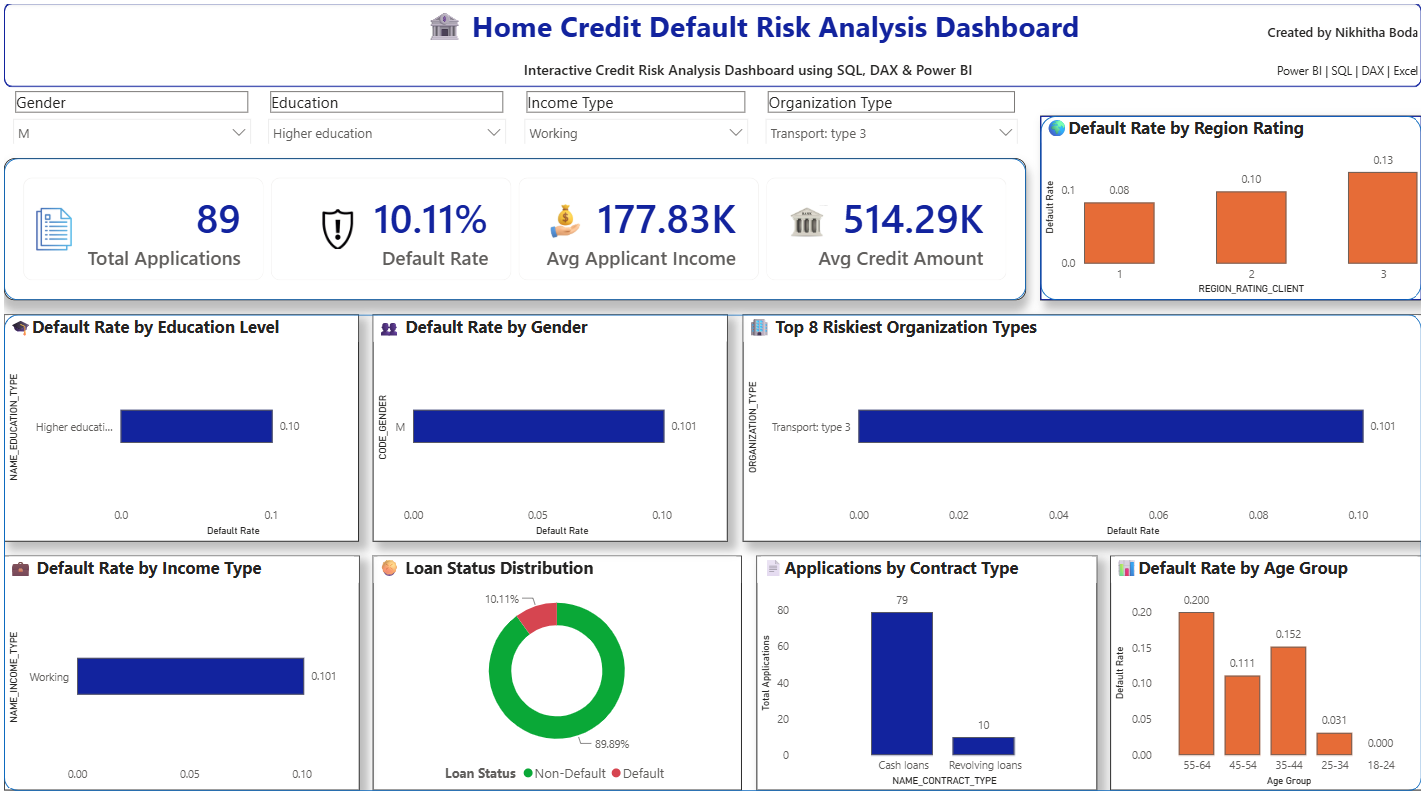

This screenshot's page, from the dashboard's own definition file:
{"tool":"powerbi","page":{"name":"Page 1","canvas":[1600,900],"ordinal":0},"visuals":[{"type":"cardVisual","fields":{"Data":["home_credit_project application_train.Total Applications","home_credit_project application_train.Default Rate","home_credit_project application_train.Avg Applicant Income","home_credit_project application_train.Avg Credit Amount"]},"box":[0,176,1152,160],"z":0},{"type":"textbox","box":[0,0,1600,96],"z":1000},{"type":"slicer","fields":{"Values":["home_credit_project application_train.CODE_GENDER"]},"box":[0,96,288,64],"z":2000},{"type":"slicer","fields":{"Values":["home_credit_project application_train.NAME_INCOME_TYPE"]},"box":[576,96,272,64],"z":3000},{"type":"slicer","fields":{"Values":["home_credit_project application_train.NAME_EDUCATION_TYPE"]},"box":[288,96,288,64],"z":4000},{"type":"slicer","fields":{"Values":["home_credit_project application_train.ORGANIZATION_TYPE"]},"box":[848,96,304,64],"z":5000},{"type":"clusteredBarChart","title":"🎓Default Rate by Education Level","fields":{"Category":["home_credit_project application_train.NAME_EDUCATION_TYPE"],"Y":["home_credit_project application_train.Default Rate"]},"box":[0,352,400,256],"z":6000},{"type":"clusteredBarChart","title":"🏢 Top 8 Riskiest Organization Types","fields":{"Y":["home_credit_project application_train.Default Rate"],"Category":["home_credit_project application_train.ORGANIZATION_TYPE"]},"box":[832,352,768,256],"z":7000},{"type":"donutChart","title":"🥧 Loan Status Distribution","fields":{"Y":["home_credit_project application_train.Total Applications"],"Category":["home_credit_project application_train.Loan Status"]},"box":[415.8,623.6,415.8,266],"z":8000},{"type":"clusteredBarChart","title":"👥 Default Rate by Gender","fields":{"Category":["home_credit_project application_train.CODE_GENDER"],"Y":["home_credit_project application_train.Default Rate"]},"box":[416,352,400,256],"z":9000},{"type":"clusteredBarChart","title":"💼 Default Rate by Income Type","fields":{"Category":["home_credit_project application_train.NAME_INCOME_TYPE"],"Y":["home_credit_project application_train.Default Rate"]},"box":[0,623.6,400.5,266],"z":10000},{"type":"clusteredColumnChart","title":"📄Applications by Contract Type","fields":{"Category":["home_credit_project application_train.NAME_CONTRACT_TYPE"],"Y":["home_credit_project application_train.Total Applications"]},"box":[848.3,623.6,383.7,266],"z":11000},{"type":"clusteredColumnChart","title":"📊Default Rate by Age Group","fields":{"Category":["home_credit_project application_train.Age Group"],"Y":["home_credit_project application_train.Default Rate"]},"box":[1247.3,623.6,353.1,266],"z":12000},{"type":"clusteredColumnChart","title":"🌍Default Rate by Region Rating","fields":{"Category":["home_credit_project application_train.REGION_RATING_CLIENT"],"Y":["home_credit_project application_train.Default Rate"]},"box":[1167.8,128.4,432.6,207.9],"z":13000},{"type":"shape","box":[0,176,1152,160],"z":14000},{"type":"image","box":[32,224,48,64],"z":15000},{"type":"image","box":[352,224,48,64],"z":16000},{"type":"image","box":[608,224,48,48],"z":17000},{"type":"image","box":[880,224,48,48],"z":18000},{"type":"shape","box":[0,0,1598.9,96.3],"z":19000},{"type":"shape","box":[0,2,1599,94],"z":20000},{"type":"shape","box":[1167.8,128.4,431,207.9],"z":21000},{"type":"shape","box":[1167.8,128.4,431,207.9],"z":22000},{"type":"shape","box":[0,351.6,1598.9,538],"z":23000},{"type":"shape","box":[1167.8,128.4,431,207.9],"z":24000}]}

Visuals, with their boxes in screenshot pixels (x1, y1, x2, y2), scaled from the page's 1600x900 canvas onto the 1425x795 screenshot:
cardVisual - home_credit_project application_train.Total Applications x home_credit_project application_train.Default Rate: {"x1": 0, "y1": 155, "x2": 1026, "y2": 297}
textbox: {"x1": 0, "y1": 0, "x2": 1424, "y2": 85}
slicer - home_credit_project application_train.CODE_GENDER: {"x1": 0, "y1": 85, "x2": 256, "y2": 141}
slicer - home_credit_project application_train.NAME_INCOME_TYPE: {"x1": 513, "y1": 85, "x2": 755, "y2": 141}
slicer - home_credit_project application_train.NAME_EDUCATION_TYPE: {"x1": 256, "y1": 85, "x2": 513, "y2": 141}
slicer - home_credit_project application_train.ORGANIZATION_TYPE: {"x1": 755, "y1": 85, "x2": 1026, "y2": 141}
"🎓Default Rate by Education Level" clusteredBarChart: {"x1": 0, "y1": 311, "x2": 356, "y2": 537}
"🏢 Top 8 Riskiest Organization Types" clusteredBarChart: {"x1": 741, "y1": 311, "x2": 1424, "y2": 537}
"🥧 Loan Status Distribution" donutChart: {"x1": 370, "y1": 551, "x2": 741, "y2": 786}
"👥 Default Rate by Gender" clusteredBarChart: {"x1": 370, "y1": 311, "x2": 727, "y2": 537}
"💼 Default Rate by Income Type" clusteredBarChart: {"x1": 0, "y1": 551, "x2": 357, "y2": 786}
"📄Applications by Contract Type" clusteredColumnChart: {"x1": 756, "y1": 551, "x2": 1097, "y2": 786}
"📊Default Rate by Age Group" clusteredColumnChart: {"x1": 1111, "y1": 551, "x2": 1424, "y2": 786}
"🌍Default Rate by Region Rating" clusteredColumnChart: {"x1": 1040, "y1": 113, "x2": 1424, "y2": 297}
shape: {"x1": 0, "y1": 155, "x2": 1026, "y2": 297}
image: {"x1": 28, "y1": 198, "x2": 71, "y2": 254}
image: {"x1": 314, "y1": 198, "x2": 356, "y2": 254}
image: {"x1": 542, "y1": 198, "x2": 584, "y2": 240}
image: {"x1": 784, "y1": 198, "x2": 826, "y2": 240}
shape: {"x1": 0, "y1": 0, "x2": 1424, "y2": 85}
shape: {"x1": 0, "y1": 2, "x2": 1424, "y2": 85}
shape: {"x1": 1040, "y1": 113, "x2": 1424, "y2": 297}
shape: {"x1": 1040, "y1": 113, "x2": 1424, "y2": 297}
shape: {"x1": 0, "y1": 311, "x2": 1424, "y2": 786}
shape: {"x1": 1040, "y1": 113, "x2": 1424, "y2": 297}
